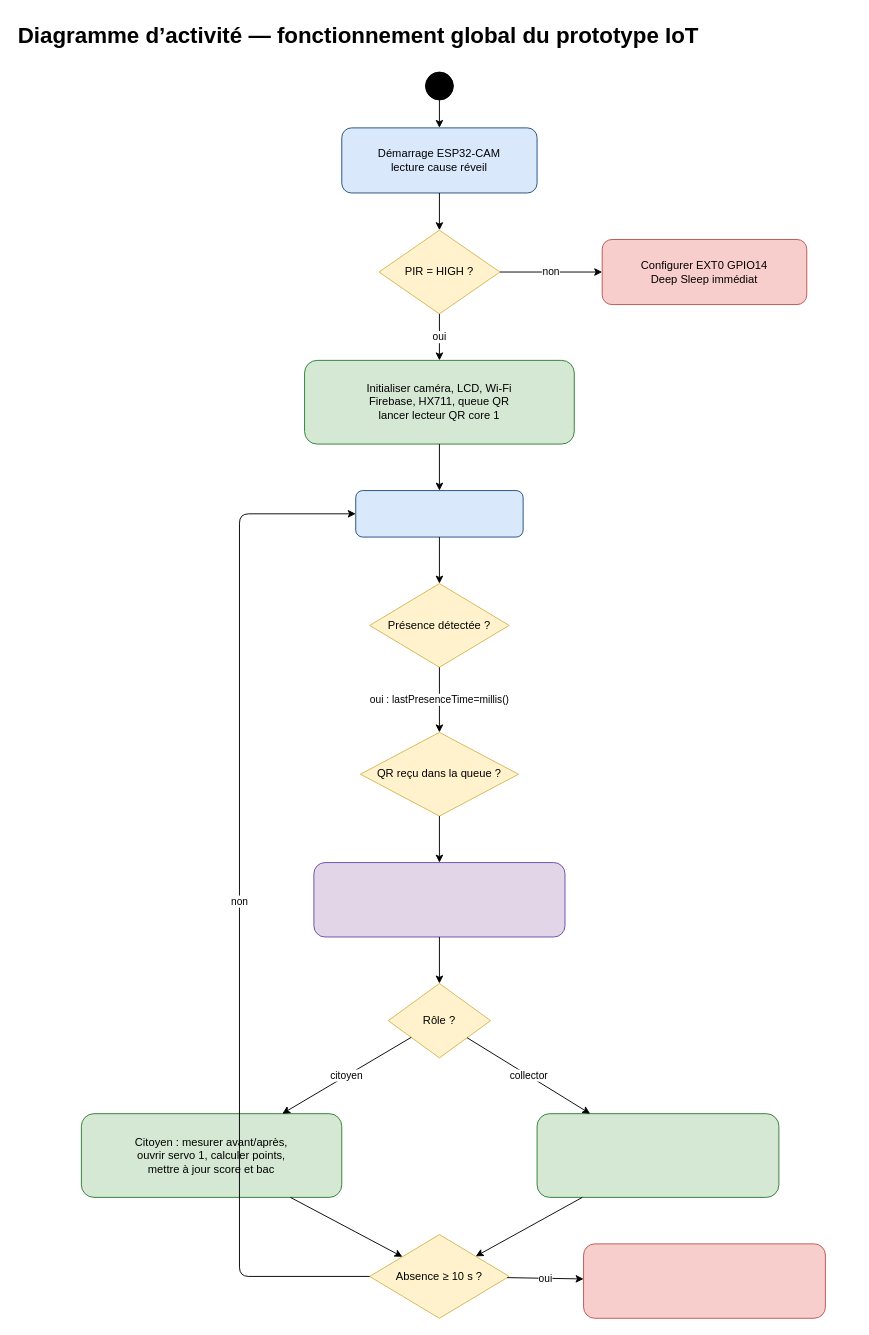
Image size: 869x1335. Some labels were removed from this diagram. The shapes that lost their labels are listed below. From the top down, each one's box as (x1, y1, x2, y2) in pixels, then its label:
(355, 490, 523, 537): Boucle principale
(313, 862, 565, 937): checkUser(qrID) Wi-Fi reconnect si besoin lecture rôle Firebase
(536, 1113, 779, 1197): Collecteur : ouvrir servo 2, tare HX711, poids = 0, état = vide
(583, 1243, 825, 1318): Entrer en Deep Sleep servos détachés, HX711 off, LCD off, Wi-Fi off
